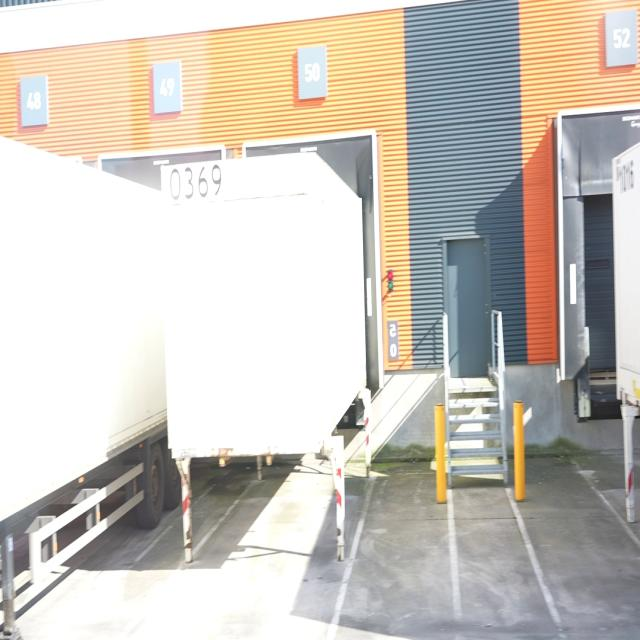Code: (167, 158, 226, 206)
